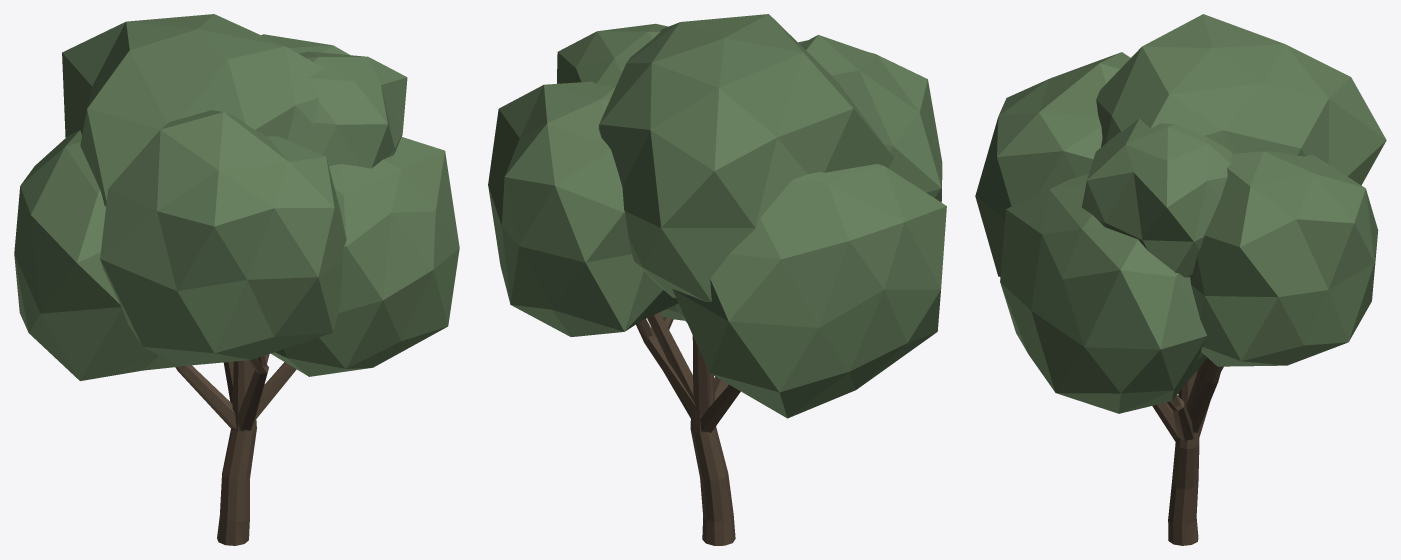
The model's file is oak.fbx.
3 renders of one model, left to right at view 1: azimuth 30°, elevation 25°; view 2: azimuth 150°, elevation 25°; view 3: azimuth 270°, elevation 25°, orthographic. The views are drawn at different scales.
Visible parts, largest first — view 1: oak; view 2: oak; view 3: oak.
Part boxes in pixels (left/top/right/bottom): oak: left=14, top=14, right=459, bottom=545; oak: left=488, top=14, right=946, bottom=545; oak: left=975, top=14, right=1386, bottom=545.
Bounding box in the file's own units: 10 × 12 × 9.28.
